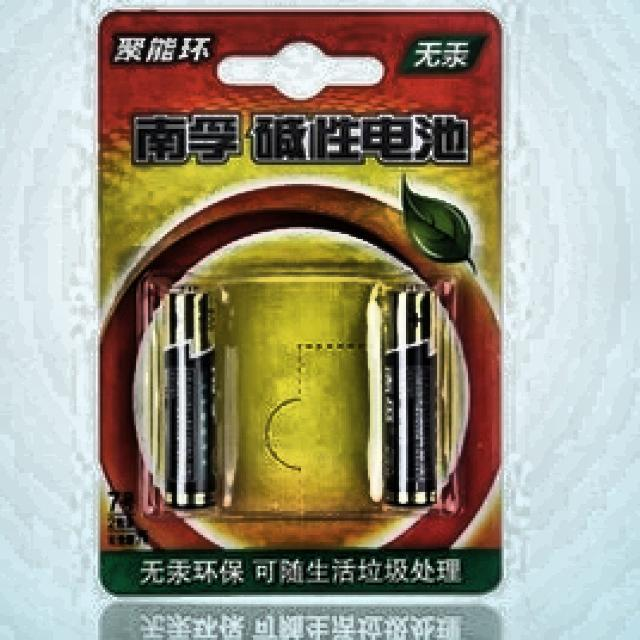Non-Valuable Waste - Batteries: (386, 290, 436, 504), (165, 292, 214, 507)
